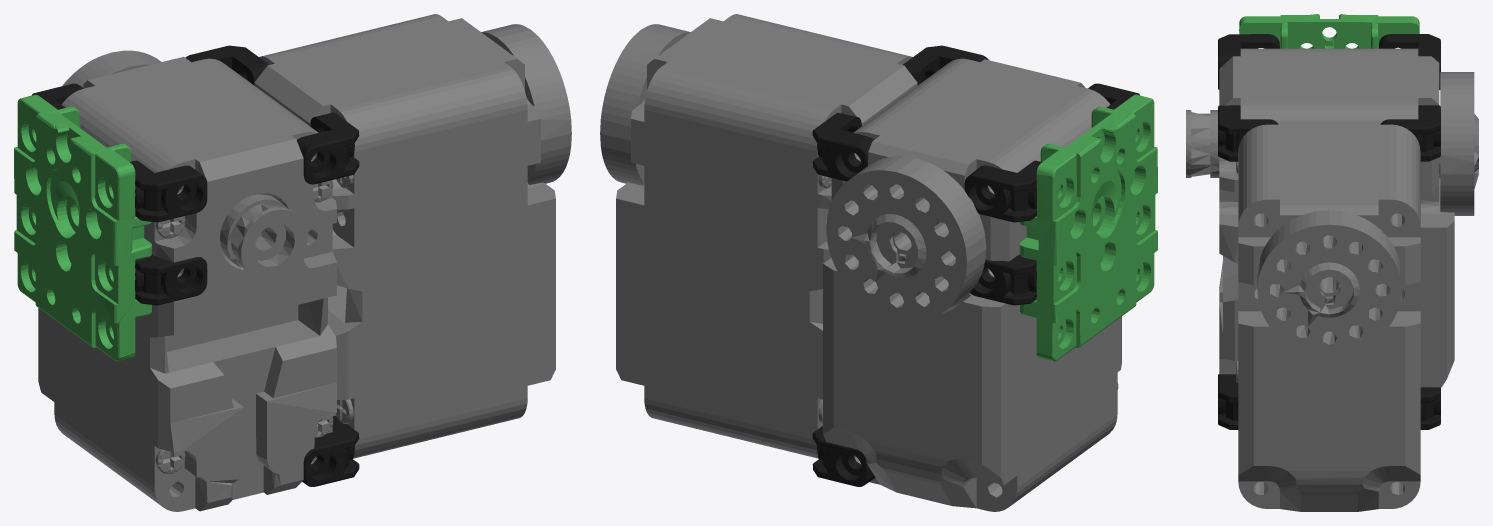
The model's file is bone41.DAE.
3 renders of one model, left to right at view 1: azimuth 30°, elevation 25°; view 2: azimuth 150°, elevation 25°; view 3: azimuth 270°, elevation 25°, orthographic. The views are drawn at different scales.
Parts seen in each view (by area): view 1: through_all_screw_holes (×2), Imported1 (×6), screw_holes (×2), O3.0__3__Diameter_Hole1; view 2: through_all_screw_holes (×2), Imported1 (×6), screw_holes (×2); view 3: through_all_screw_holes (×2), screw_holes (×2), Imported1 (×7), O3.0__3__Diameter_Hole1.
Part boxes in pixels (bbox=[...]): through_all_screw_holes (×2): bbox=[38, 14, 555, 511]; Imported1 (×6): bbox=[14, 45, 359, 486]; screw_holes (×2): bbox=[62, 24, 571, 184]; O3.0__3__Diameter_Hole1: bbox=[220, 194, 307, 280]; through_all_screw_holes (×2): bbox=[616, 14, 1121, 511]; Imported1 (×6): bbox=[812, 45, 1157, 486]; screw_holes (×2): bbox=[600, 24, 986, 321]; through_all_screw_holes (×2): bbox=[1219, 48, 1454, 511]; screw_holes (×2): bbox=[1257, 72, 1478, 355]; Imported1 (×7): bbox=[1218, 14, 1440, 429]; O3.0__3__Diameter_Hole1: bbox=[1186, 110, 1219, 177].
Bounding box in the file's own units: 63.65 × 38.6 × 46.05.
